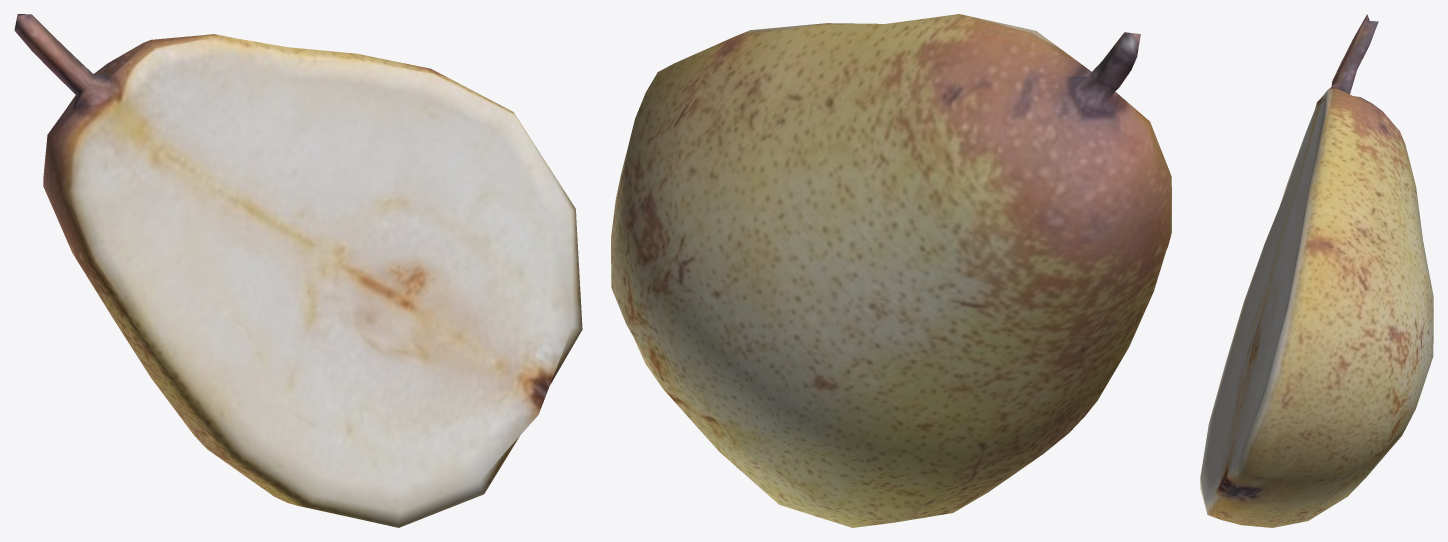
Rendered from A5_Pear_Half_low.fbx.
The picture shows the model from 3 angles, left to right: view 1: azimuth 30°, elevation 25°; view 2: azimuth 150°, elevation 25°; view 3: azimuth 270°, elevation 25°; orthographic projection. The views are drawn at different scales.
Parts seen in each view (by area): view 1: A5_Pear_Half_low; view 2: A5_Pear_Half_low; view 3: A5_Pear_Half_low.
Boxes of the visible parts, x1,y1,x2,y2 form: A5_Pear_Half_low: [14, 14, 582, 527]; A5_Pear_Half_low: [611, 14, 1171, 527]; A5_Pear_Half_low: [1200, 14, 1433, 527].
Size of the model in its own units: 8.78 by 4.75 by 8.72.
1 material, 1 textured.
